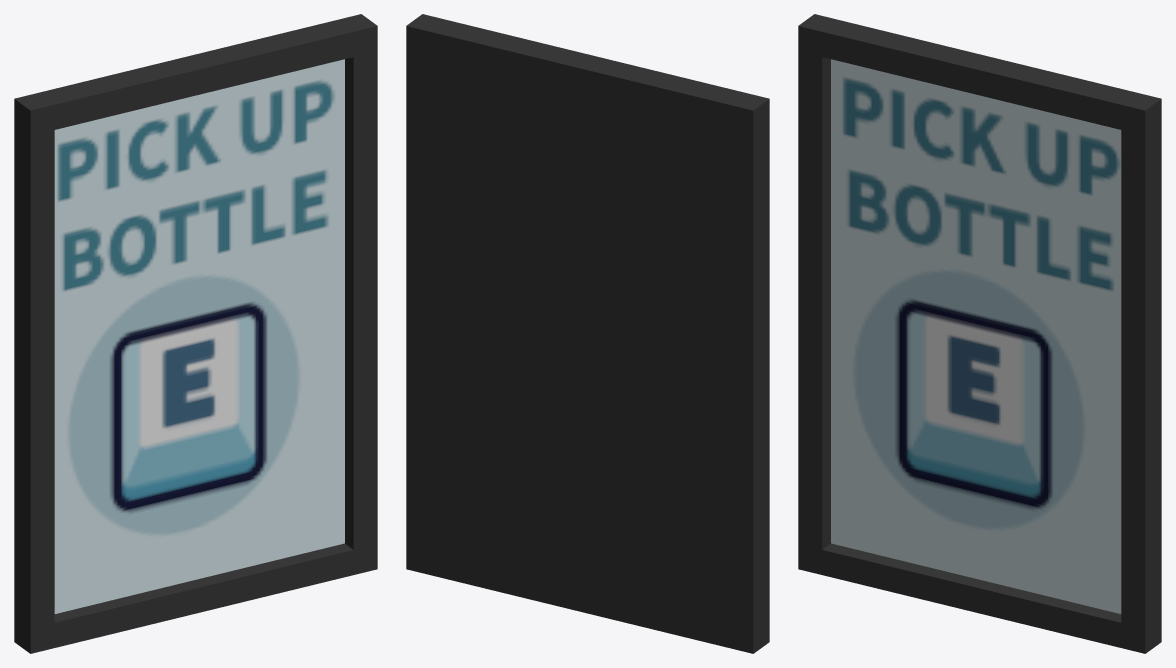
Rendered from B00_Cadre_Tuto_PICKUP.fbx.
The picture shows the model from 3 angles, left to right: view 1: azimuth 30°, elevation 25°; view 2: azimuth 150°, elevation 25°; view 3: azimuth 330°, elevation 25°; orthographic projection.
Parts seen in each view (by area): view 1: B02_Cadre_Tuto_PICKUP; view 2: B02_Cadre_Tuto_PICKUP; view 3: B02_Cadre_Tuto_PICKUP.
Boxes of the visible parts, bbox=[...] form: B02_Cadre_Tuto_PICKUP: bbox=[14, 14, 377, 653]; B02_Cadre_Tuto_PICKUP: bbox=[406, 14, 769, 653]; B02_Cadre_Tuto_PICKUP: bbox=[798, 14, 1161, 653].
Size of the model in its own units: 331 by 495 by 26.98.
